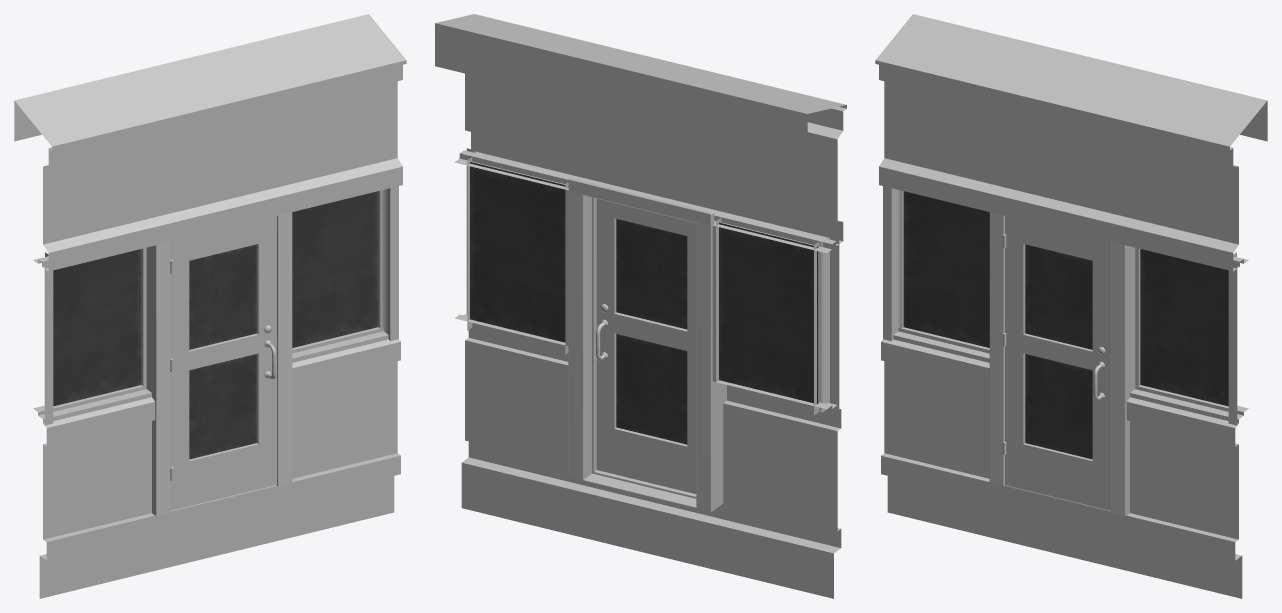
The model's file is Wall_out_door.fbx.
3 renders of one model, left to right at view 1: azimuth 30°, elevation 25°; view 2: azimuth 150°, elevation 25°; view 3: azimuth 330°, elevation 25°, orthographic. The views are drawn at different scales.
Parts seen in each view (by area): view 1: Wall_out_door, Wall_door_glass, Door_main, DoorMain_glass; view 2: Wall_out_door, Wall_door_glass, Door_main, DoorMain_glass; view 3: Wall_out_door, Wall_door_glass, Door_main, DoorMain_glass.
Part boxes in pixels (box(x1,y1,x2,y2)): Wall_out_door: box(14, 14, 406, 598); Wall_door_glass: box(53, 191, 378, 406); Door_main: box(170, 216, 276, 510); DoorMain_glass: box(189, 244, 256, 459); Wall_out_door: box(435, 14, 846, 598); Wall_door_glass: box(470, 162, 818, 403); Door_main: box(596, 199, 696, 493); DoorMain_glass: box(616, 219, 687, 444); Wall_out_door: box(875, 14, 1267, 598); Wall_door_glass: box(903, 191, 1228, 406); Door_main: box(1003, 216, 1110, 510); DoorMain_glass: box(1025, 244, 1092, 459).
Size of the model in its own units: 300 by 388 by 57.97.
